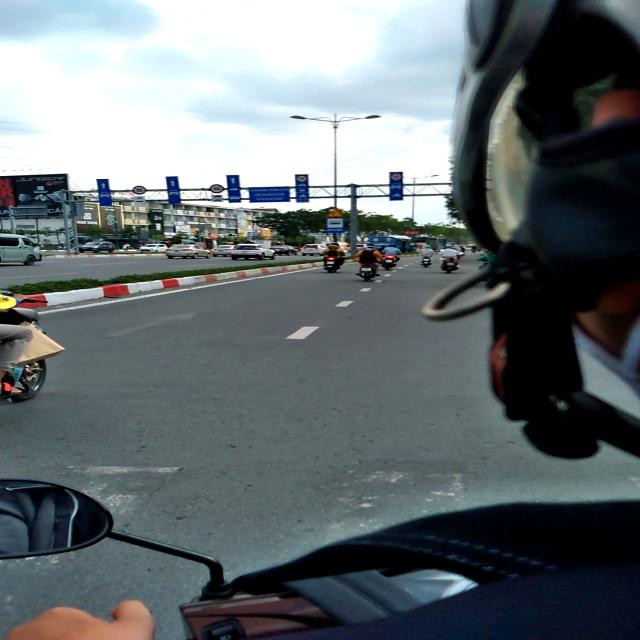Hieu lenh: (326, 218, 345, 232)
Nguy hiem: (325, 208, 343, 217)
Toc do toi da: (208, 184, 224, 193), (132, 186, 147, 194), (390, 173, 402, 181), (296, 175, 308, 182)
